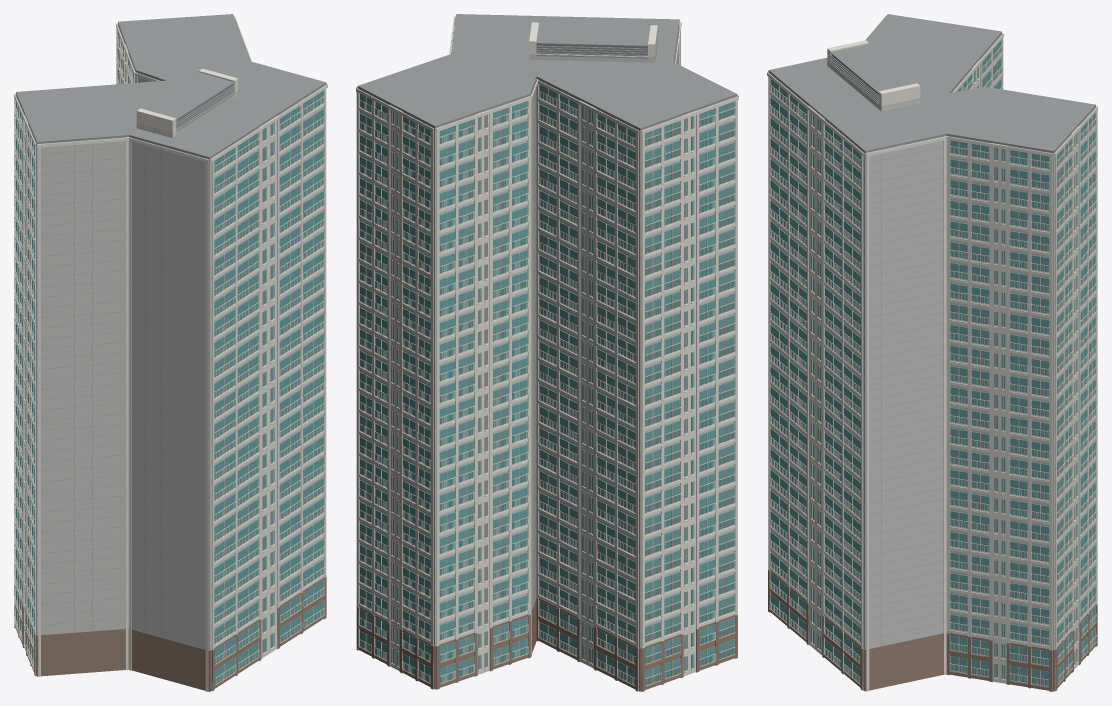
The model's file is bespoke-jamsil-els-131.glb.
The picture shows the model from 3 angles, left to right: view 1: azimuth 30°, elevation 25°; view 2: azimuth 150°, elevation 25°; view 3: azimuth 270°, elevation 25°; orthographic projection. The views are drawn at different scales.
Visible parts, largest first — view 1: Els131_editable_Els131_light_grey_solid_wall, Els131_editable_Els131_turquoise_balcony_glazing, Els131_editable_Els131_modest_grey_flat_roof_caps, Els131_white_exact_chunk_2, Els131_white_exact_chunk_3, Els131_editable_Els131_muted_ground_wall, Els131_white_exact_chunk_1, Els131_white_exact_chunk_4, Els131_white_exact_chunk_7, Els131_white_exact_chunk_6; view 2: Els131_editable_Els131_turquoise_balcony_glazing, Els131_white_exact_chunk_1, Els131_white_exact_chunk_6, Els131_editable_Els131_light_grey_solid_wall, Els131_white_exact_chunk_0, Els131_editable_Els131_modest_grey_flat_roof_caps, Els131_white_exact_chunk_5, Els131_white_exact_chunk_7, Els131_white_exact_chunk_2, Els131_editable_Els131_muted_ground_wall, Els131_editable_Els131_narrow_charcoal_service_strips; view 3: Els131_editable_Els131_turquoise_balcony_glazing, Els131_editable_Els131_light_grey_solid_wall, Els131_white_exact_chunk_4, Els131_editable_Els131_modest_grey_flat_roof_caps, Els131_white_exact_chunk_5, Els131_white_exact_chunk_3, Els131_white_exact_chunk_2, Els131_editable_Els131_muted_ground_wall, Els131_white_exact_chunk_6, Els131_white_exact_chunk_7, Els131_white_exact_chunk_1.
Boxes of the visible parts, x1,y1,x2,y2 form: Els131_editable_Els131_light_grey_solid_wall: (16, 24, 326, 650); Els131_editable_Els131_turquoise_balcony_glazing: (16, 27, 323, 684); Els131_editable_Els131_modest_grey_flat_roof_caps: (16, 14, 326, 649); Els131_white_exact_chunk_2: (14, 94, 277, 691); Els131_white_exact_chunk_3: (212, 105, 324, 690); Els131_editable_Els131_muted_ground_wall: (14, 576, 326, 691); Els131_white_exact_chunk_1: (14, 93, 30, 659); Els131_white_exact_chunk_4: (210, 42, 327, 648); Els131_white_exact_chunk_7: (116, 23, 238, 137); Els131_white_exact_chunk_6: (116, 23, 128, 84); Els131_editable_Els131_turquoise_balcony_glazing: (360, 84, 734, 685); Els131_white_exact_chunk_1: (536, 79, 715, 691); Els131_white_exact_chunk_6: (356, 88, 509, 689); Els131_editable_Els131_light_grey_solid_wall: (357, 22, 737, 654); Els131_white_exact_chunk_0: (536, 79, 614, 674); Els131_editable_Els131_modest_grey_flat_roof_caps: (357, 14, 737, 609); Els131_white_exact_chunk_5: (356, 87, 415, 675); Els131_white_exact_chunk_7: (435, 22, 657, 670); Els131_white_exact_chunk_2: (641, 21, 738, 659); Els131_editable_Els131_muted_ground_wall: (356, 597, 737, 691); Els131_editable_Els131_narrow_charcoal_service_strips: (536, 44, 647, 54); Els131_editable_Els131_turquoise_balcony_glazing: (770, 40, 1095, 686); Els131_editable_Els131_light_grey_solid_wall: (768, 34, 1095, 663); Els131_white_exact_chunk_4: (767, 72, 1049, 691); Els131_editable_Els131_modest_grey_flat_roof_caps: (768, 14, 1095, 648); Els131_white_exact_chunk_5: (946, 126, 1088, 691); Els131_white_exact_chunk_3: (768, 73, 860, 684); Els131_white_exact_chunk_2: (768, 16, 1002, 655); Els131_editable_Els131_muted_ground_wall: (768, 570, 1097, 691); Els131_white_exact_chunk_6: (1055, 107, 1097, 664); Els131_white_exact_chunk_7: (827, 40, 1096, 110); Els131_white_exact_chunk_1: (953, 33, 1003, 92).
Bounding box in the file's own units: 37.96 × 71.15 × 38.26.
